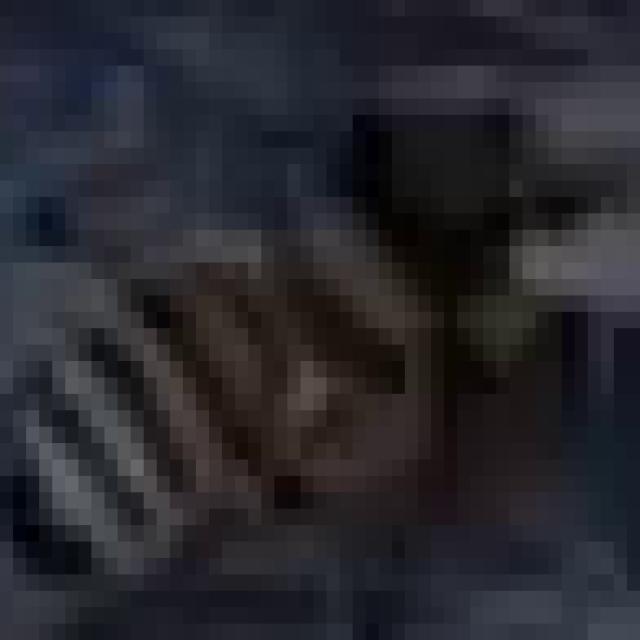honeybee: (1, 144, 562, 586)
